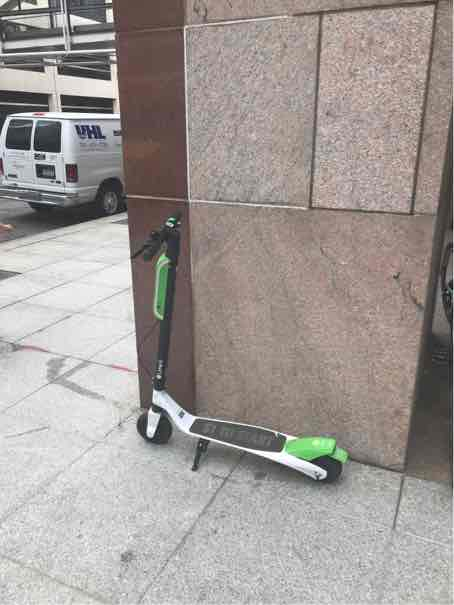scooter: (127, 201, 364, 483)
